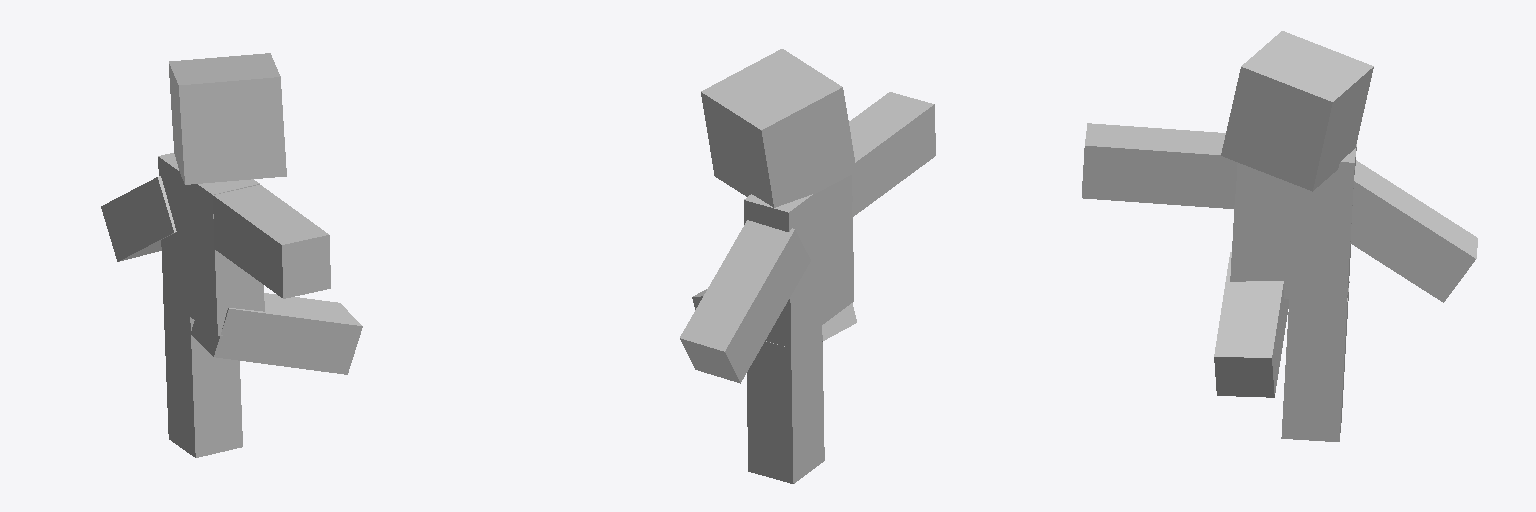
Rendered from steve.obj.
3 renders of one model, left to right at view 1: azimuth 30°, elevation 25°; view 2: azimuth 150°, elevation 25°; view 3: azimuth 270°, elevation 25°, orthographic.
Visible parts, largest first — view 1: Steve_Head, Steve_Body, Steve_RArm, Steve_RLeg, Steve_LLeg, Steve_LArm; view 2: Steve_Head, Steve_LArm, Steve_LLeg, Steve_Body, Steve_RArm, Steve_RLeg; view 3: Steve_Head, Steve_Body, Steve_RArm, Steve_LArm, Steve_LLeg, Steve_RLeg.
Part boxes in pixels (x1,y1,x2,y2): Steve_Head: (169,53,286,184); Steve_Body: (158,153,264,335); Steve_RArm: (213,185,330,298); Steve_RLeg: (191,293,362,374); Steve_LLeg: (163,298,242,457); Steve_LArm: (101,176,176,261); Steve_Head: (701,49,856,207); Steve_LArm: (680,220,810,383); Steve_LLeg: (747,326,824,483); Steve_Body: (744,175,853,347); Steve_RArm: (849,92,935,217); Steve_RLeg: (692,289,856,341); Steve_Head: (1221,31,1373,191); Steve_Body: (1230,144,1356,302); Steve_RArm: (1082,123,1237,208); Steve_LArm: (1350,160,1477,302); Steve_LLeg: (1281,281,1349,441); Steve_RLeg: (1214,252,1288,397).
Bounding box in the file's own units: 3.6 × 8.25 × 7.73.